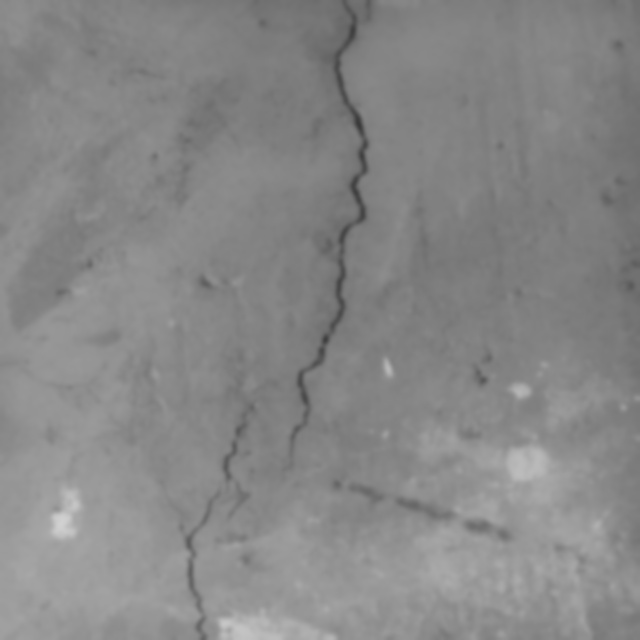SurfaceCrack: (257, 0, 405, 635)
